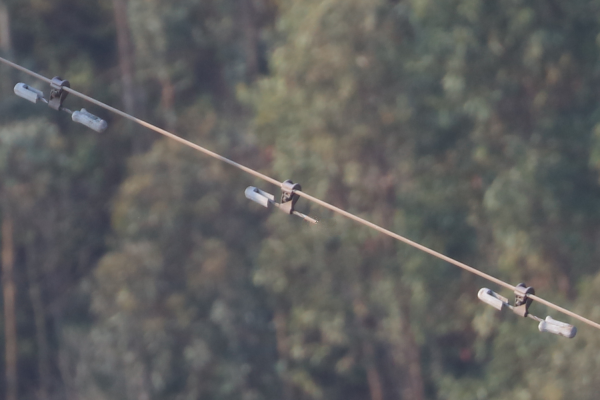damper: (471, 278, 580, 342), (10, 73, 108, 134)
damper_defect: (242, 173, 319, 227)
